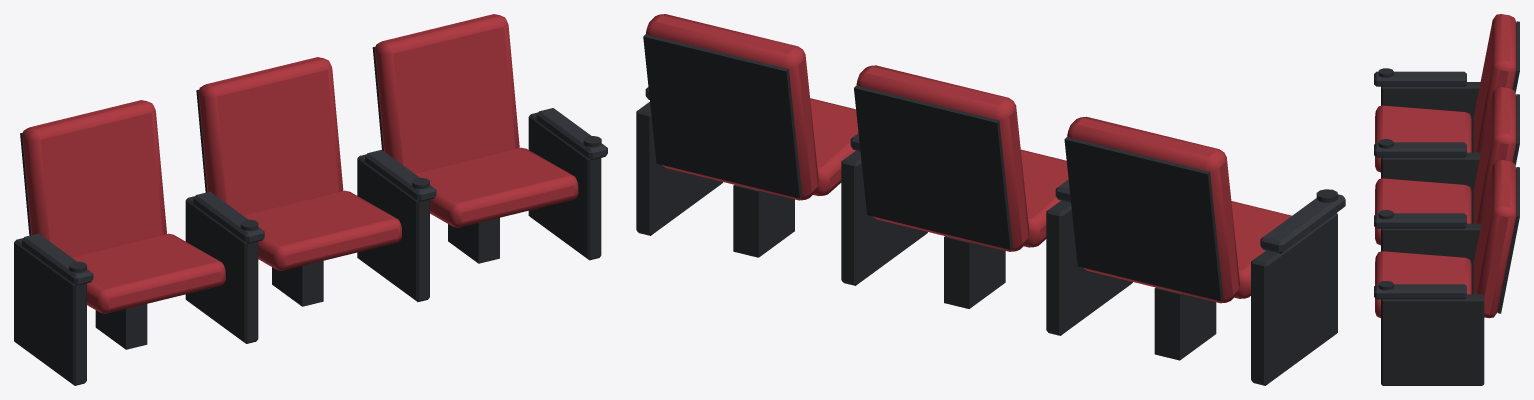
Rendered from cinema_seats.glb.
3 renders of one model, left to right at view 1: azimuth 30°, elevation 25°; view 2: azimuth 150°, elevation 25°; view 3: azimuth 270°, elevation 25°, orthographic. The views are drawn at different scales.
Visible parts, largest first — view 1: cinema_seats; view 2: cinema_seats; view 3: cinema_seats.
Boxes of the visible parts, box(x1,y1,x2,y2) form: cinema_seats: box(14, 14, 607, 385); cinema_seats: box(636, 14, 1345, 385); cinema_seats: box(1374, 14, 1519, 385).
Bounding box in the file's own units: 3.03 × 1.07 × 0.8467.
